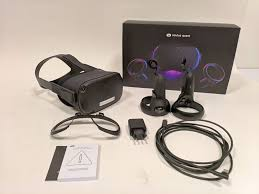oculus: (57, 67, 127, 115)
